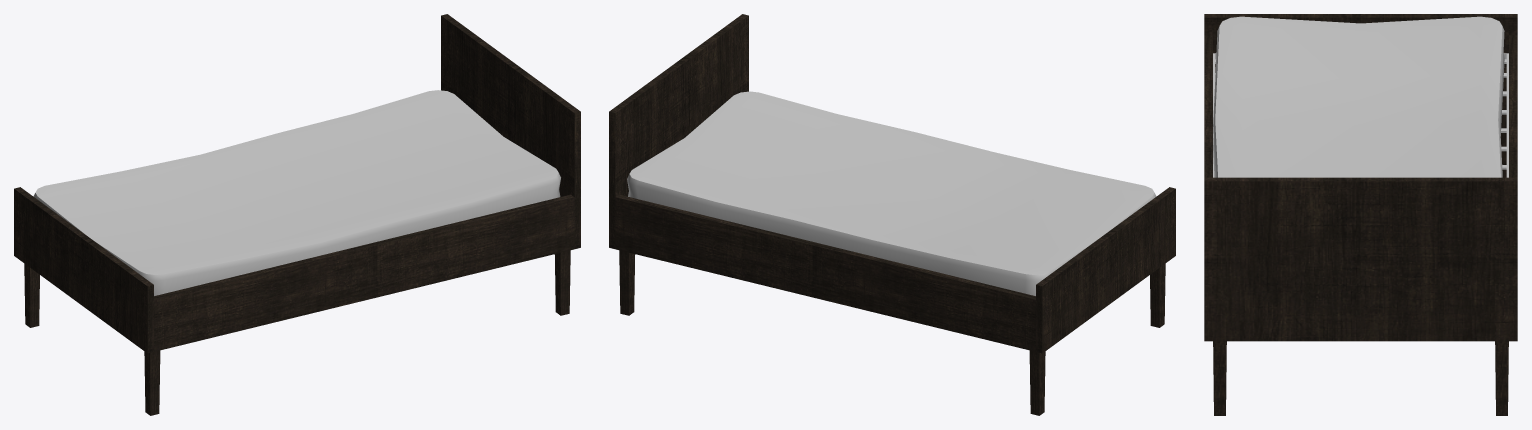
File: bed_3_2.obj
3 views of the same model, side by side, from view 1: azimuth 30°, elevation 25°; view 2: azimuth 150°, elevation 25°; view 3: azimuth 270°, elevation 25° (orthographic). The views are drawn at different scales.
Visible parts, largest first — view 1: bed_3_2; view 2: bed_3_2; view 3: bed_3_2.
Boxes of the visible parts, bbox=[...] form: bed_3_2: bbox=[14, 14, 580, 415]; bed_3_2: bbox=[609, 14, 1175, 415]; bed_3_2: bbox=[1204, 14, 1517, 415].
Bounding box in the file's own units: 2.7 × 1.21 × 1.44.
